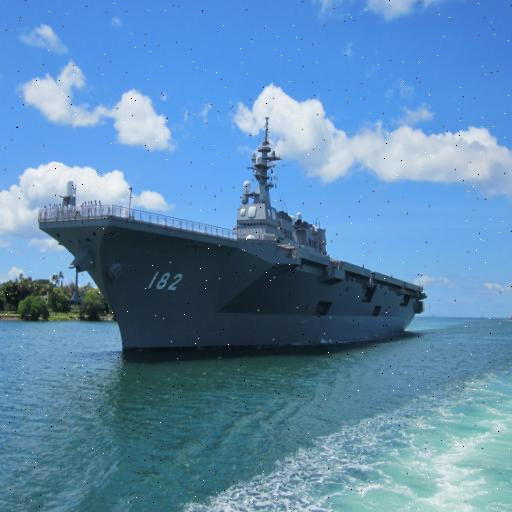Portanaves: (39, 109, 432, 363)
